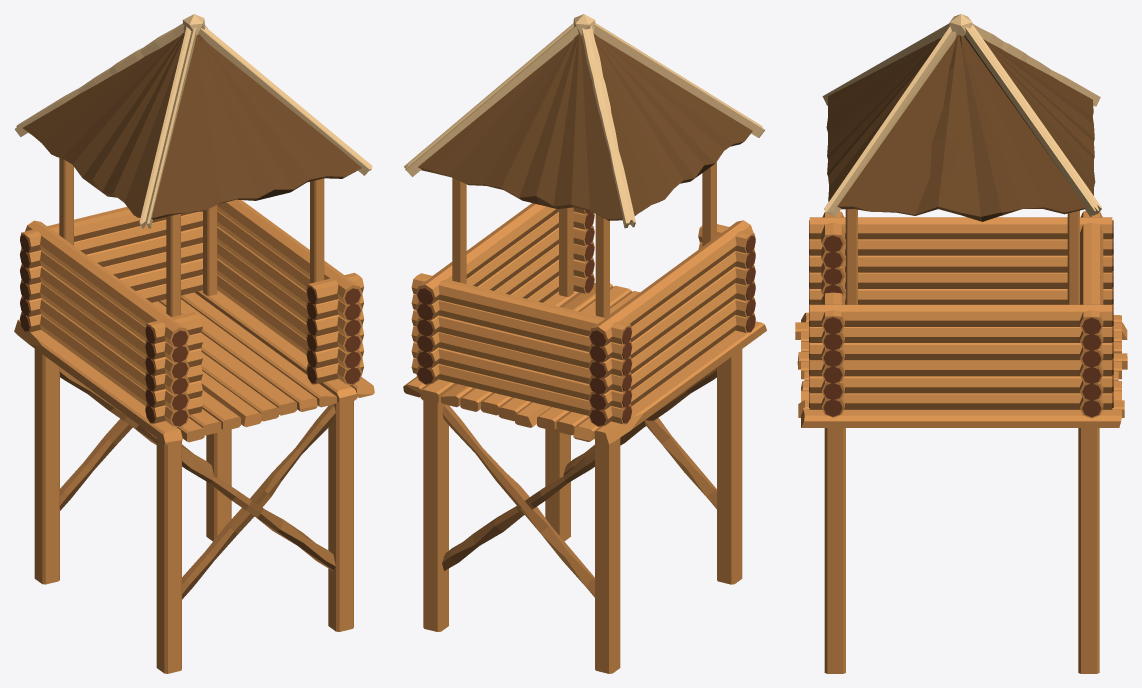
Rendered from Wood_Tower_1_White.fbx.
3 views of the same model, side by side, from view 1: azimuth 30°, elevation 25°; view 2: azimuth 150°, elevation 25°; view 3: azimuth 270°, elevation 25° (orthographic). The views are drawn at different scales.
Visible parts, largest first — view 1: Cube.388, Cylinder.112, Cube.390, Cylinder.111, Cylinder.113, Cube.368, Cube.371, Cube.369, Cube.382, Cylinder.109, Cylinder.115, Cylinder.114 (+23 smaller); view 2: Cube.387, Cylinder.113, Cylinder.112, Cube.390, Cylinder.111, Cube.371, Cube.368, Cube.370, Cube.382, Cylinder.108, Cube.391, Cube.393 (+21 smaller); view 3: Cylinder.111, Cube.389, Cylinder.112, Cube.388, Cube.372, Cube.387, Cube.369, Cube.370, Cylinder.113, Cube.391, Cube.392, Cylinder.119 (+9 smaller).
Boxes of the visible parts, left/top/right/bottom form: Cube.388: left=151, top=34, right=361, bottom=220; Cylinder.112: left=25, top=220, right=189, bottom=427; Cube.390: left=23, top=33, right=184, bottom=218; Cylinder.111: left=217, top=199, right=362, bottom=385; Cylinder.113: left=20, top=207, right=202, bottom=332; Cube.368: left=156, top=438, right=181, bottom=673; Cube.371: left=34, top=349, right=59, bottom=584; Cube.369: left=328, top=401, right=353, bottom=631; Cube.382: left=14, top=319, right=182, bottom=444; Cylinder.109: left=182, top=404, right=335, bottom=599; Cylinder.115: left=306, top=272, right=363, bottom=384; Cylinder.114: left=145, top=312, right=202, bottom=423; Cube.387: left=418, top=34, right=623, bottom=220; Cylinder.113: left=411, top=273, right=632, bottom=424; Cylinder.112: left=588, top=220, right=753, bottom=426; Cube.390: left=593, top=33, right=752, bottom=215; Cylinder.111: left=415, top=203, right=558, bottom=384; Cube.371: left=595, top=438, right=620, bottom=673; Cube.368: left=717, top=349, right=742, bottom=584; Cube.370: left=423, top=400, right=448, bottom=631; Cube.382: left=594, top=321, right=766, bottom=444; Cylinder.108: left=442, top=404, right=594, bottom=597; Cube.391: left=404, top=23, right=578, bottom=176; Cube.393: left=582, top=26, right=635, bottom=228; Cylinder.111: left=809, top=304, right=1112, bottom=409; Cube.389: left=837, top=35, right=1085, bottom=221; Cylinder.112: left=809, top=217, right=1112, bottom=304; Cube.388: left=826, top=37, right=941, bottom=201; Cube.372: left=801, top=410, right=1121, bottom=427; Cube.387: left=983, top=39, right=1095, bottom=195; Cube.369: left=824, top=428, right=845, bottom=673; Cube.370: left=1078, top=428, right=1099, bottom=673; Cylinder.113: left=1079, top=211, right=1103, bottom=418; Cube.391: left=965, top=24, right=1102, bottom=216; Cube.392: left=824, top=26, right=956, bottom=216; Cylinder.119: left=823, top=317, right=842, bottom=416.
Bounding box in the file's own units: 735 × 1771 × 871.
